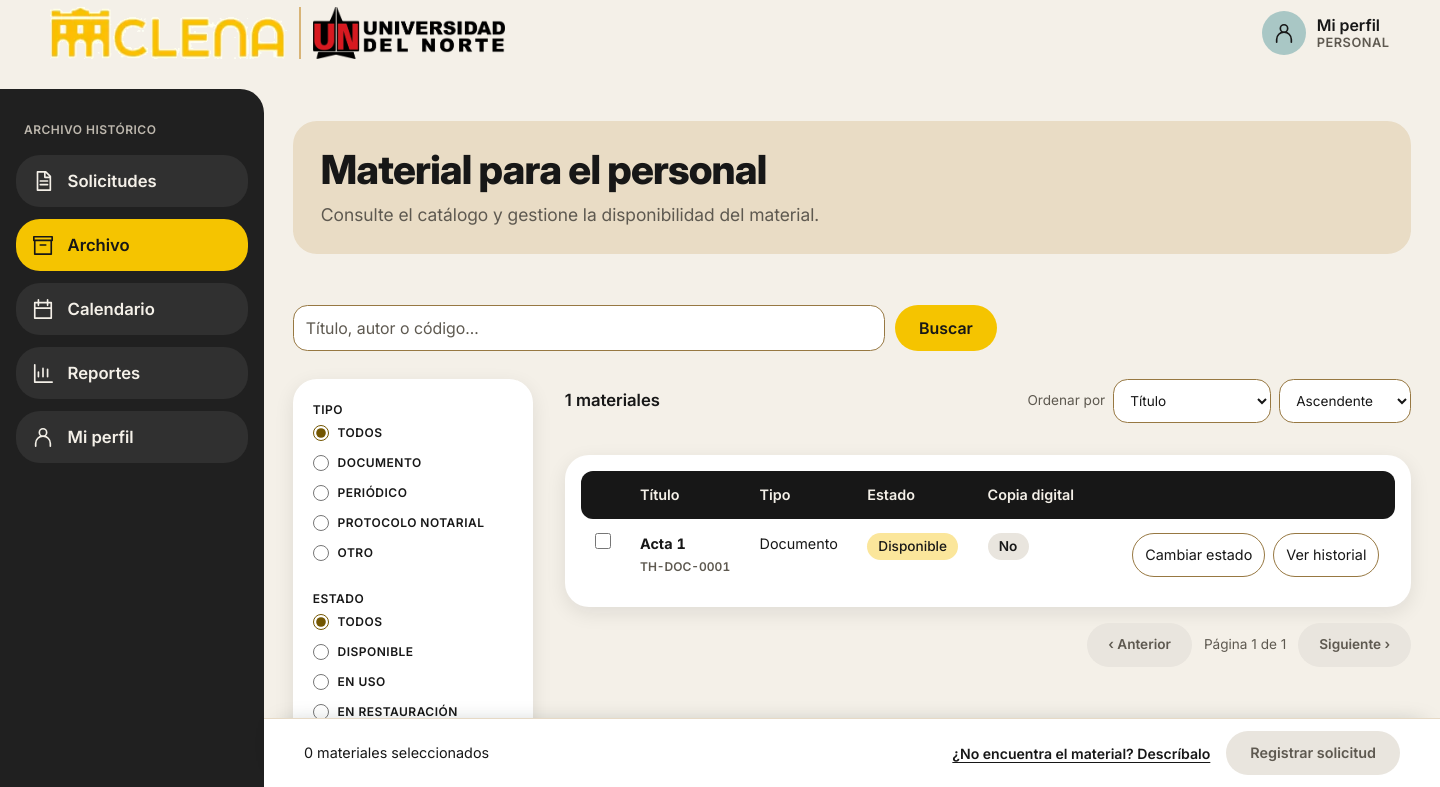
Test: StaffMaterialsPage › saves the new status with the optional reason and shows it in the list
The width and height of the screenshot is (1440, 787).
Click the button with aria-label "cambiar estado de acta 1" at (1199, 555), box [1132,533,1265,577]
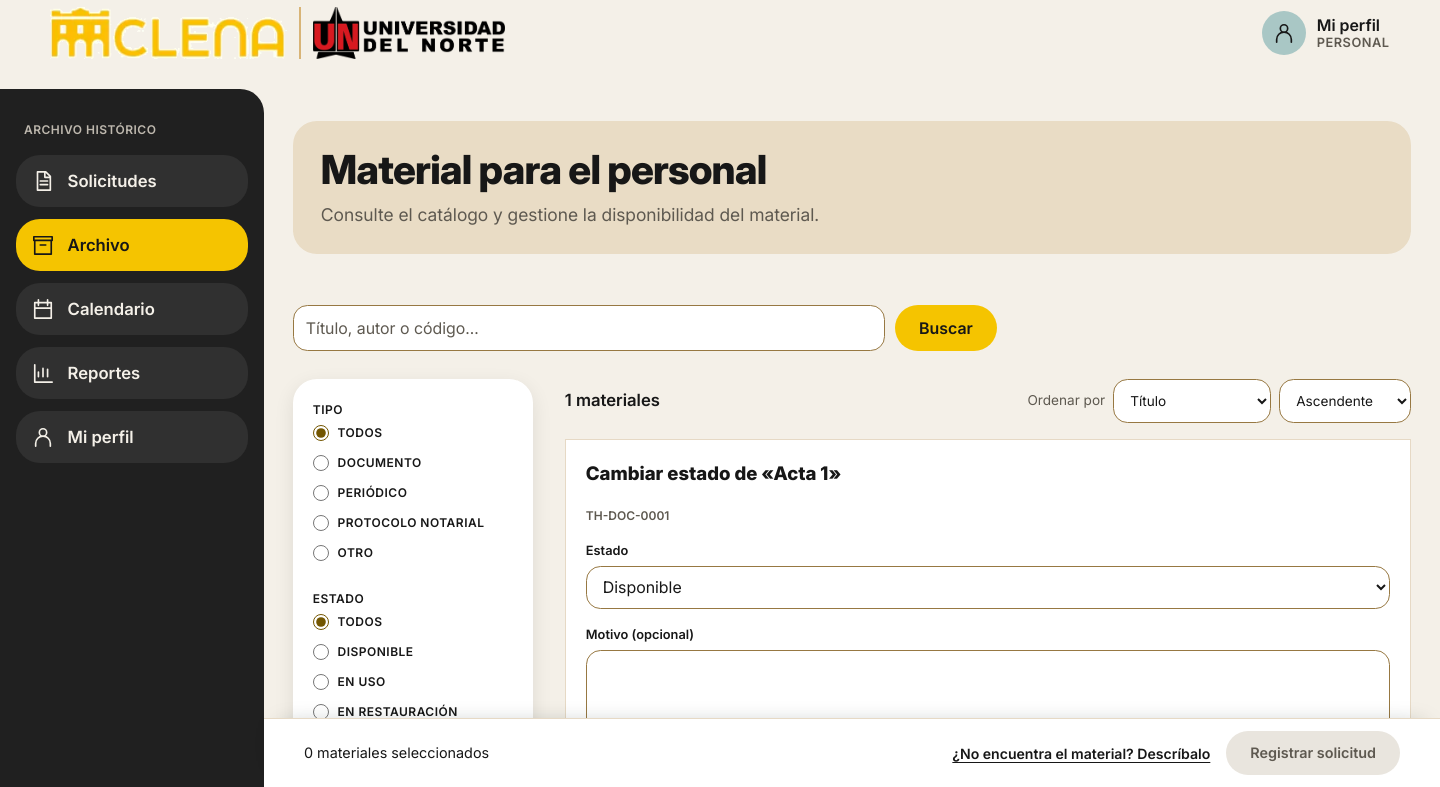
Select "En restauración" in the dropdown labelled "Estado" at (988, 587), box [586,566,1390,609]
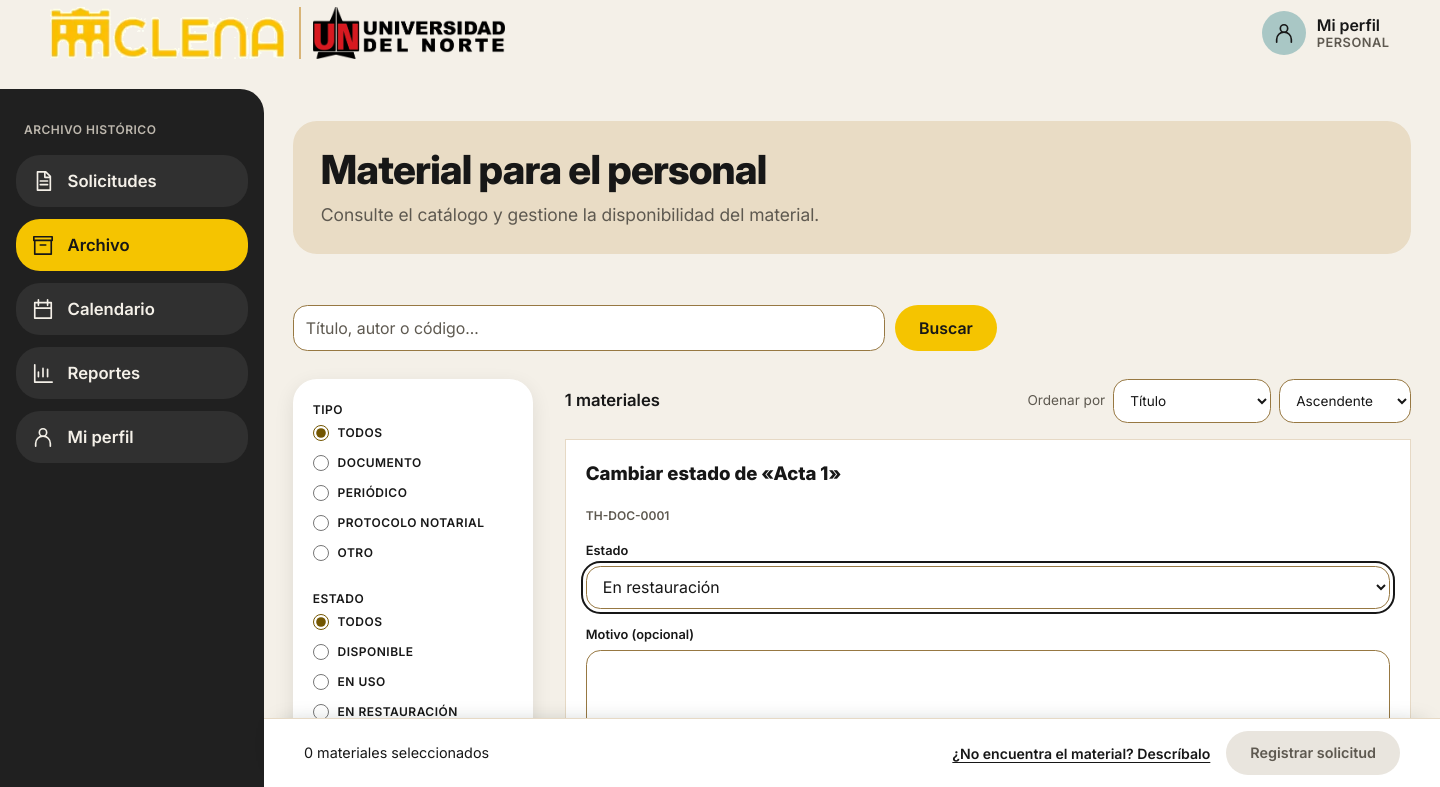
Type "Humedad en las hojas" into the text box labelled "Motivo (opcional)" at (988, 696), box [586,650,1390,743]
(page scrolled)
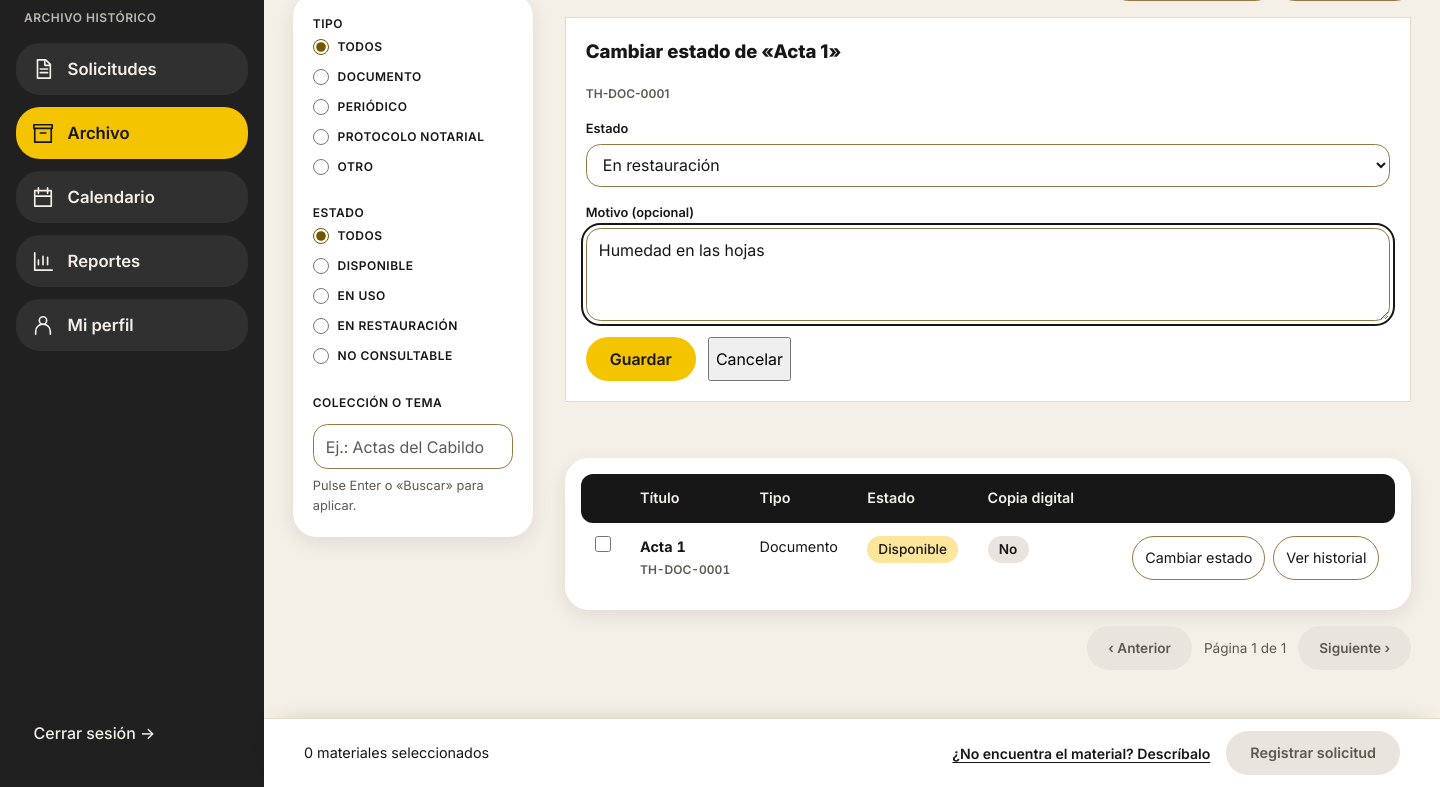
Click the button "Guardar" at (641, 359), box [586,337,696,381]
(page scrolled)
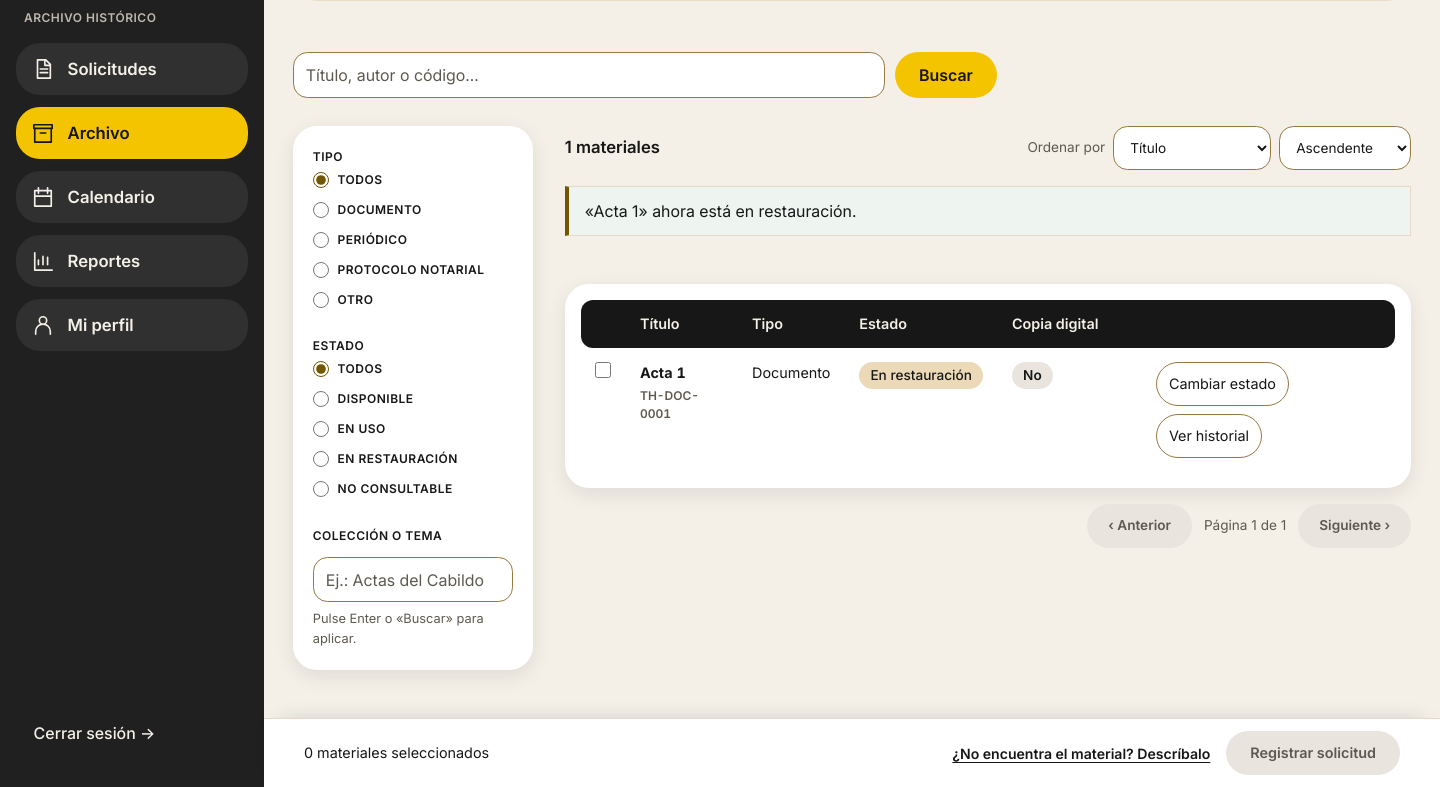
Result: the message reads "«Acta 1» ahora está en restauración." at [585,200,856,220]
Result: the text "En restauración" is shown at [859,362,983,389]
